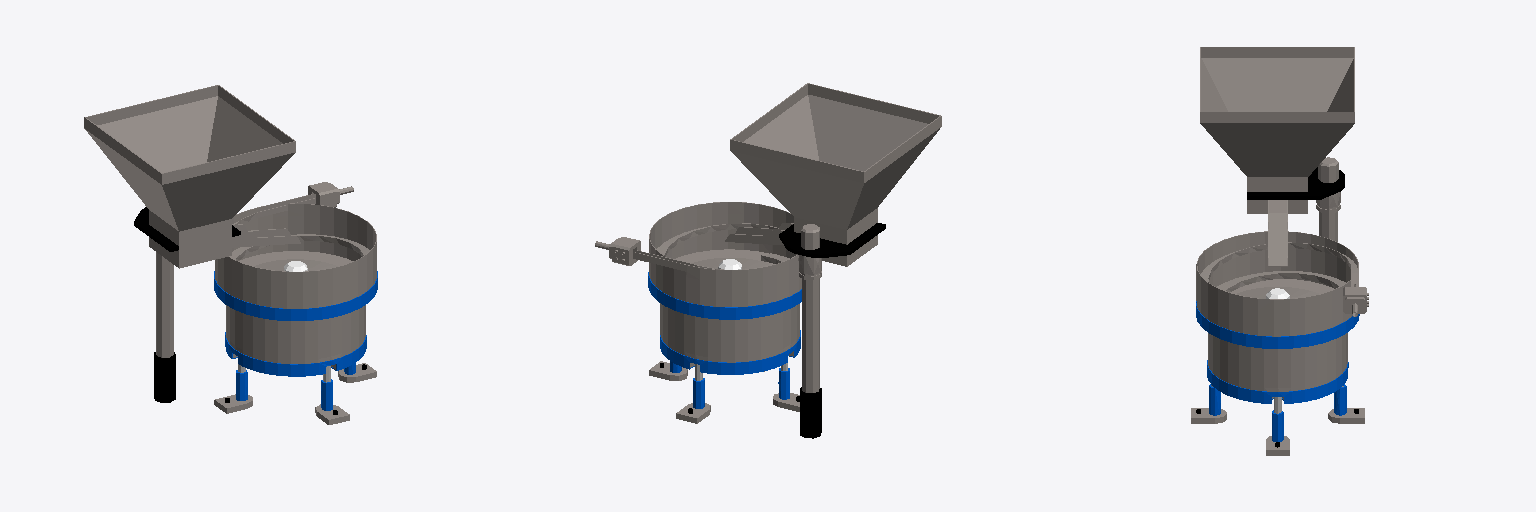
File: Vibrating_Bowl_Pins.obj
3 views of the same model, side by side, from view 1: azimuth 30°, elevation 25°; view 2: azimuth 150°, elevation 25°; view 3: azimuth 270°, elevation 25° (orthographic).
Visible parts, largest first — view 1: _[number redacted]_[number redacted]_[number redacted]_[number redacted]_[number redacted]_[number redacted]_4653, _[number redacted]_[number redacted]_[number redacted]_[number redacted]_[number redacted]_[number redacted], _[number redacted]_[number redacted]_[number redacted]_[number redacted]_[number redacted]_[number redacted]; view 2: _[number redacted]_[number redacted]_[number redacted]_[number redacted]_[number redacted]_[number redacted]_4653, _[number redacted]_[number redacted]_[number redacted]_[number redacted]_[number redacted]_[number redacted], _[number redacted]_[number redacted]_[number redacted]_[number redacted]_[number redacted]_[number redacted]; view 3: _[number redacted]_[number redacted]_[number redacted]_[number redacted]_[number redacted]_[number redacted]_4653, _[number redacted]_[number redacted]_[number redacted]_[number redacted]_[number redacted]_[number redacted], _[number redacted]_[number redacted]_[number redacted]_[number redacted]_[number redacted]_[number redacted].
Part boxes in pixels (bbox=[...]): _[number redacted]_[number redacted]_[number redacted]_[number redacted]_[number redacted]_[number redacted]_4653: bbox=[84, 85, 376, 424]; _[number redacted]_[number redacted]_[number redacted]_[number redacted]_[number redacted]_[number redacted]: bbox=[214, 271, 377, 410]; _[number redacted]_[number redacted]_[number redacted]_[number redacted]_[number redacted]_[number redacted]: bbox=[134, 207, 366, 414]; _[number redacted]_[number redacted]_[number redacted]_[number redacted]_[number redacted]_[number redacted]_4653: bbox=[609, 83, 941, 423]; _[number redacted]_[number redacted]_[number redacted]_[number redacted]_[number redacted]_[number redacted]: bbox=[648, 272, 801, 408]; _[number redacted]_[number redacted]_[number redacted]_[number redacted]_[number redacted]_[number redacted]: bbox=[660, 223, 885, 438]; _[number redacted]_[number redacted]_[number redacted]_[number redacted]_[number redacted]_[number redacted]_4653: bbox=[1191, 47, 1368, 455]; _[number redacted]_[number redacted]_[number redacted]_[number redacted]_[number redacted]_[number redacted]: bbox=[1196, 301, 1359, 441]; _[number redacted]_[number redacted]_[number redacted]_[number redacted]_[number redacted]_[number redacted]: bbox=[1196, 167, 1358, 447].
Bounding box in the file's own units: 760 × 780 × 439.